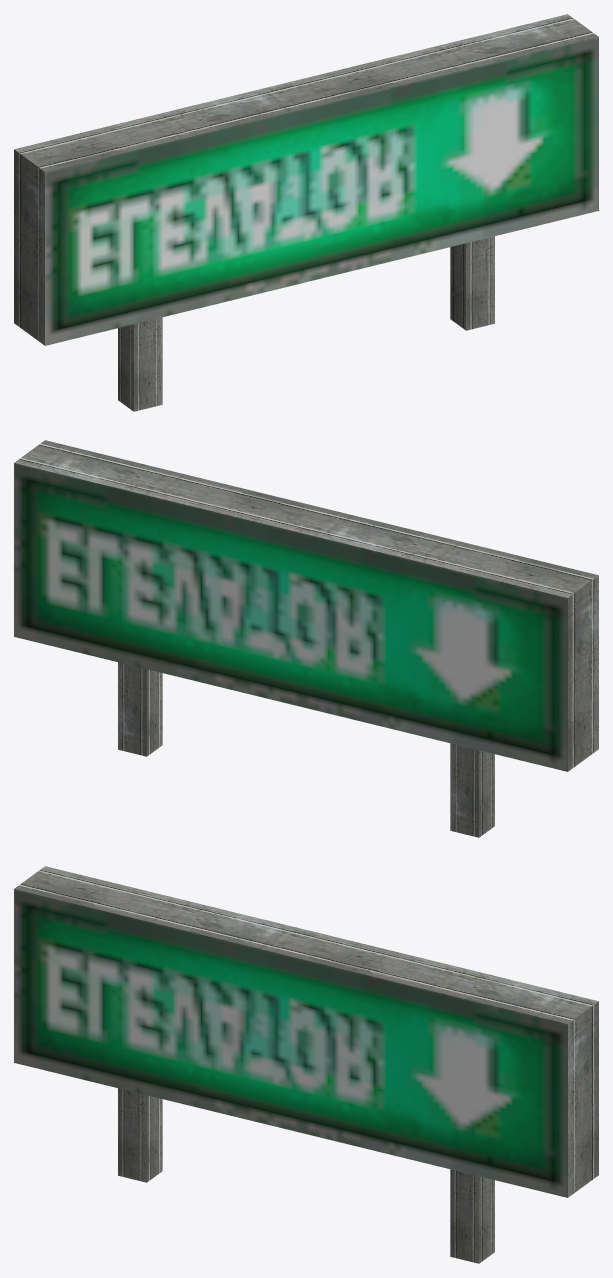
Rendered from elev_hang_straight.fbx.
3 views of the same model, one above another, from view 1: azimuth 30°, elevation 25°; view 2: azimuth 150°, elevation 25°; view 3: azimuth 330°, elevation 25° (orthographic).
Parts seen in each view (by area): view 1: mesh_0; view 2: mesh_0; view 3: mesh_0.
Part boxes in pixels (box(x1,y1,x2,y2)): mesh_0: box(14, 14, 598, 411); mesh_0: box(14, 440, 598, 837); mesh_0: box(14, 866, 598, 1263).
Bounding box in the file's own units: 100 × 46.38 × 9.74.
Materials: 1 (1 with a texture image).
